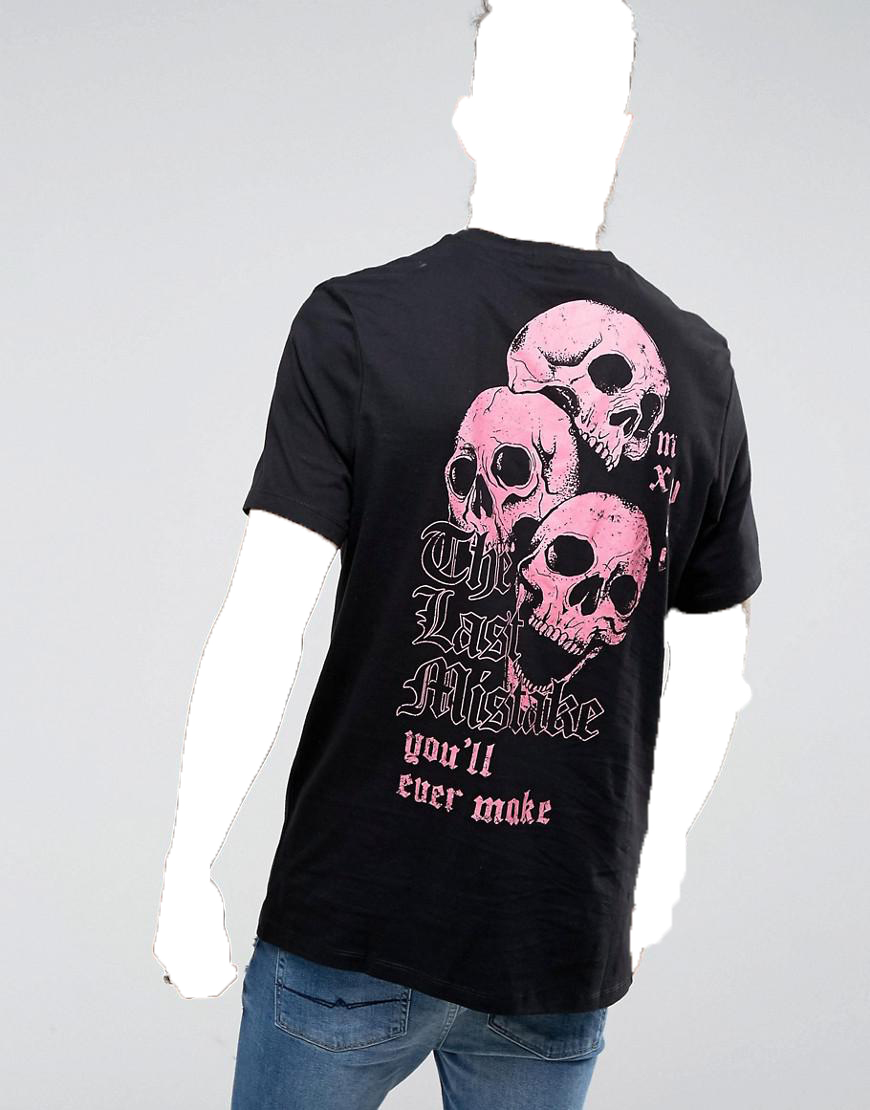teeshirt: (237, 222, 776, 1027)
